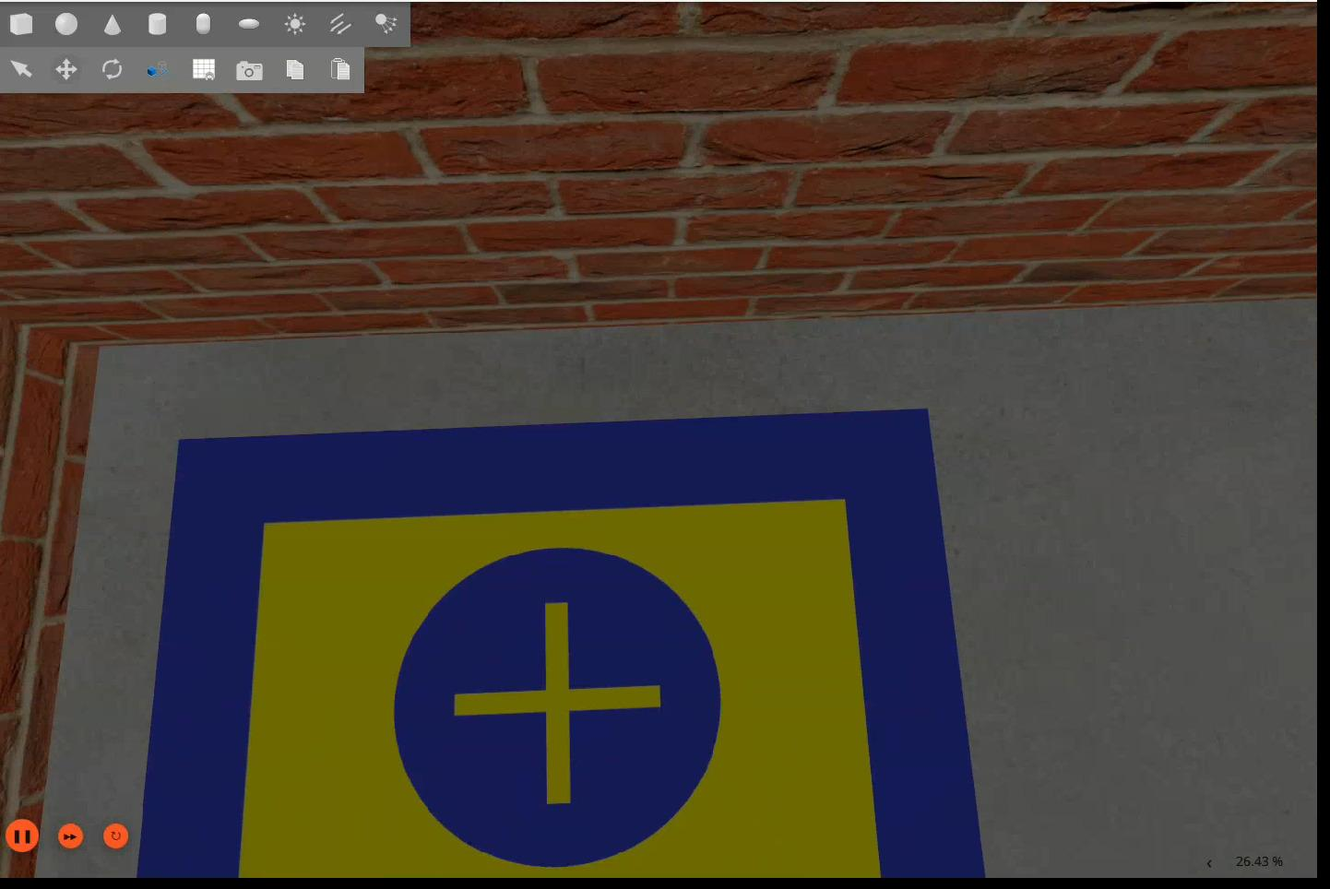large_base: (140, 409, 985, 880)
